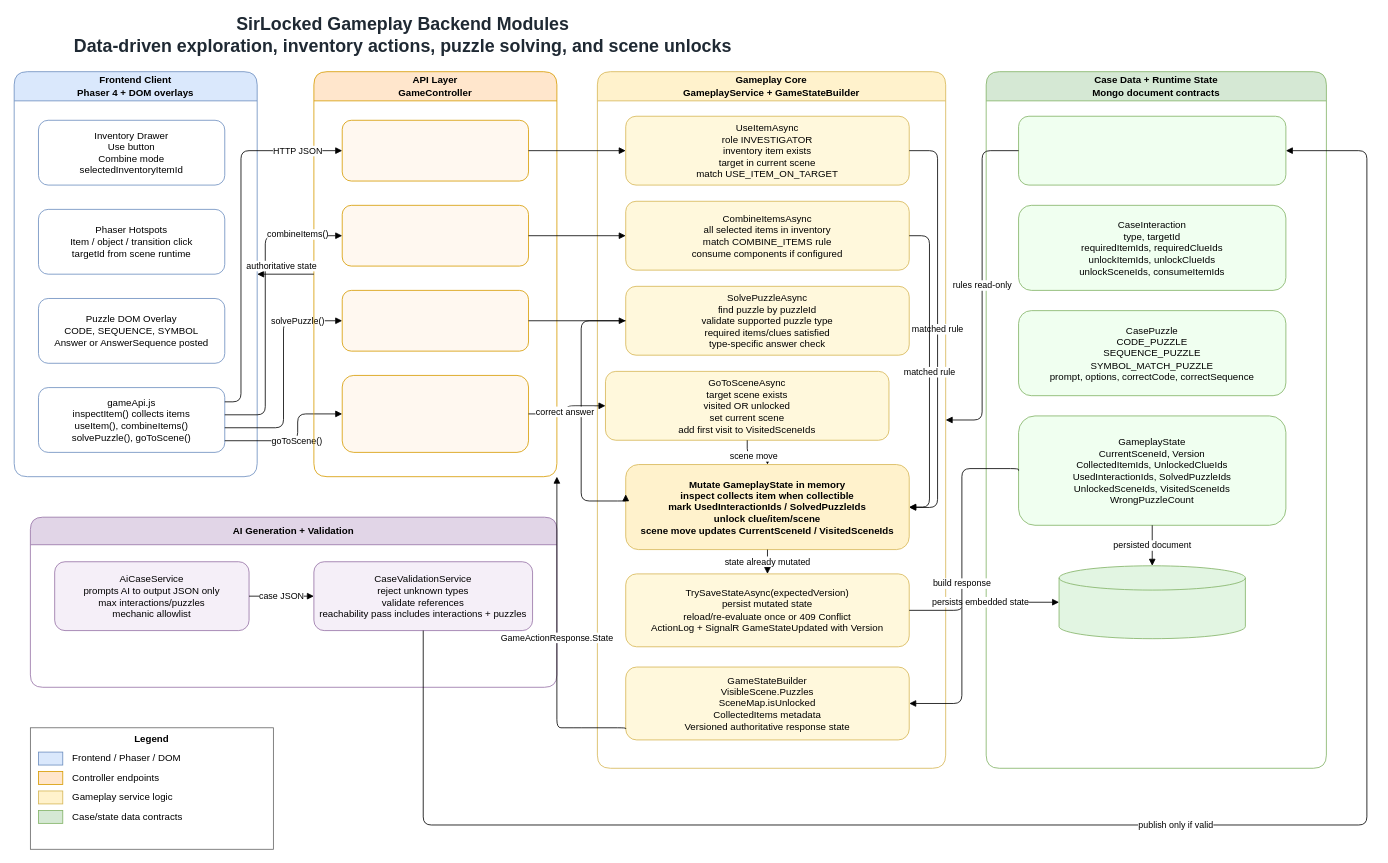
Some shapes in this 1388 by 863 pixel diagram are drawn without their labels. The shapes that lost their labels are listed below. From the top down, each one's centre as x and y in pixels, then its label:
At [435,150]: "POST /use-item UseItemRequest itemId + targetId".
At [1152,150]: "GameCase Interactions[] Puzzles[] Items / Clues / Scenes".
At [435,235]: "POST /combine-items CombineItemsRequest itemIds[]".
At [435,320]: "POST /solve-puzzle SolvePuzzleRequest puzzleId + Answer/AnswerSequence".
At [435,413]: "POST /go-to-scene GoToSceneRequest allows visited or unlocked".
At [1151,602]: "MongoDB GameRoom document embedded GameplayState Case JSON document".
